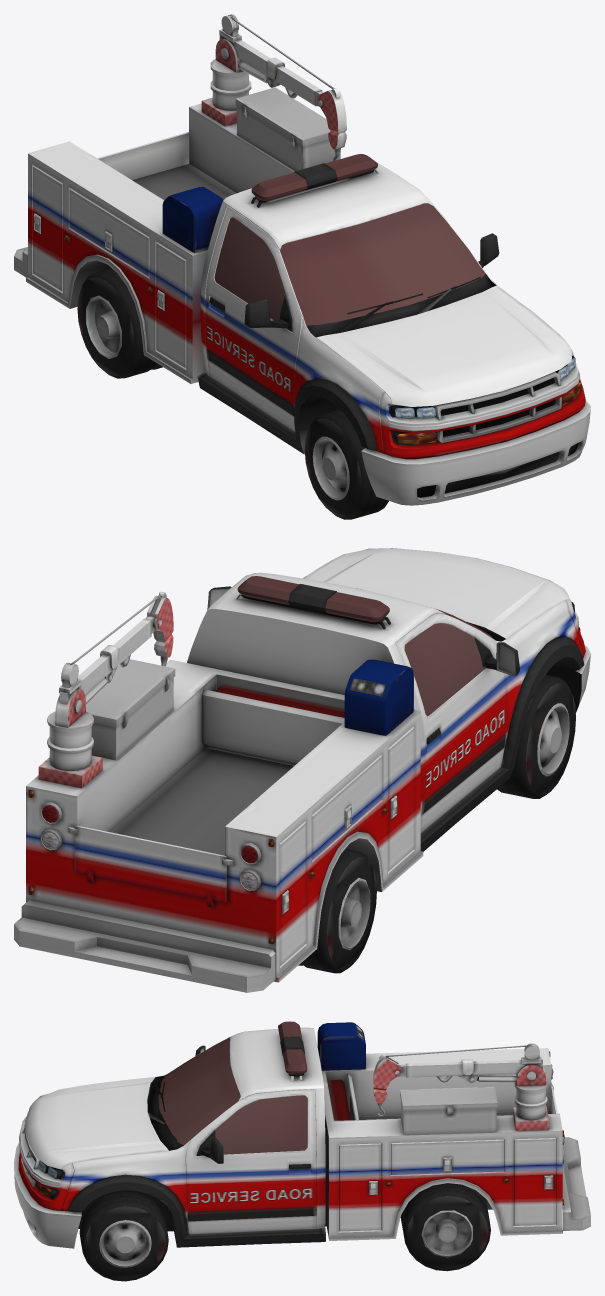
Rendered from utility.glb.
3 views of the same model, one above another, from view 1: azimuth 30°, elevation 25°; view 2: azimuth 150°, elevation 25°; view 3: azimuth 270°, elevation 25° (orthographic). The views are drawn at different scales.
Visible parts, largest first — view 1: utility body, Front Right Wheel, Rear Right Wheel; view 2: utility body, Front Right Wheel, Rear Right Wheel; view 3: utility body, Front Left Wheel, Rear Left Wheel.
Boxes of the visible parts, <box> form: utility body: <box>14,14,590,505</box>; Front Right Wheel: <box>304,409,388,519</box>; Rear Right Wheel: <box>77,268,162,378</box>; utility body: <box>14,548,590,992</box>; Front Right Wheel: <box>497,675,575,798</box>; Rear Right Wheel: <box>298,849,376,973</box>; utility body: <box>14,1021,590,1248</box>; Front Left Wheel: <box>79,1191,168,1281</box>; Rear Left Wheel: <box>400,1183,490,1271</box>.
Bounding box in the file's own units: 2.27 × 2.19 × 5.32.
1 material, 1 textured.
